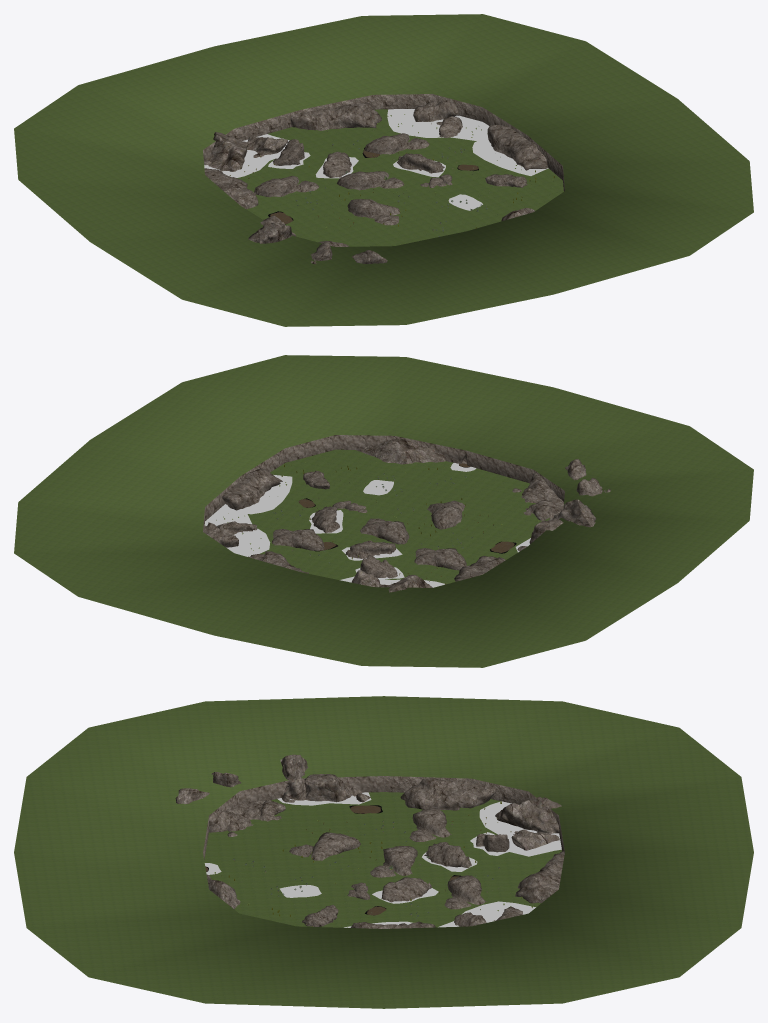
File: map5 c hang.fbx
3 views of the same model, one above another, from view 1: azimuth 30°, elevation 25°; view 2: azimuth 150°, elevation 25°; view 3: azimuth 270°, elevation 25° (orthographic). The views are drawn at different scales.
Visible parts, largest first — view 1: Plane.057, Plane.058, MoutainsRocks02_A_LOD0.014, RockMoutain03_LOD0.004, Plane.066, MoutainsRocks02_A_LOD0.010, MoutainsRocks02_LOD0.004, MoutainsRocks02_A_LOD0.012, MountainRocks01_C.009, MountainRocks01_C.010, MountainRocks01_C.013, MountainRocks01_C.014 (+7 smaller); view 2: Plane.057, Plane.058, MountainRocks01_LOD0.004, MountainRocks01_D.004, MoutainsRocks02_A_LOD0.010, Plane.066, MountainRocks01_B_LOD0.004, Plane.064, MountainRocks01_C.014, MountainRocks01_C.013, MountainRocks01_C.009, MoutainsRocks02_LOD0.004 (+6 smaller); view 3: Plane.057, Plane.058, MountainRocks01_LOD0.004, MoutainsRocks02_A_LOD0.012, MountainRocks01_B_LOD0.004, RockMoutain03_LOD0.004, MoutainsRocks02_A_LOD0.014, Plane.065, MountainRocks01_C.010, MountainRocks01_C.009, MountainRocks01_C.014, MountainRocks01_C.013 (+6 smaller).
Part boxes in pixels (x1,y1,x2,y2): Plane.057: [14, 14, 753, 326]; Plane.058: [237, 109, 563, 246]; MoutainsRocks02_A_LOD0.014: [290, 102, 381, 131]; RockMoutain03_LOD0.004: [204, 132, 287, 171]; Plane.066: [387, 109, 489, 141]; MoutainsRocks02_A_LOD0.010: [487, 124, 547, 170]; MoutainsRocks02_LOD0.004: [413, 100, 462, 137]; MoutainsRocks02_A_LOD0.012: [204, 168, 258, 209]; MountainRocks01_C.009: [337, 171, 404, 190]; MountainRocks01_C.010: [347, 199, 400, 225]; MountainRocks01_C.013: [254, 176, 319, 197]; MountainRocks01_C.014: [364, 133, 429, 154]; Plane.057: [14, 355, 753, 667]; Plane.058: [247, 449, 550, 584]; MountainRocks01_LOD0.004: [512, 459, 610, 520]; MountainRocks01_D.004: [356, 438, 445, 464]; MoutainsRocks02_A_LOD0.010: [222, 468, 282, 510]; Plane.066: [204, 506, 270, 556]; MountainRocks01_B_LOD0.004: [517, 499, 596, 551]; Plane.064: [222, 475, 292, 514]; MountainRocks01_C.014: [272, 529, 324, 550]; MountainRocks01_C.013: [414, 548, 466, 570]; MountainRocks01_C.009: [360, 518, 409, 544]; MoutainsRocks02_LOD0.004: [203, 521, 257, 547]; Plane.057: [14, 696, 753, 1008]; Plane.058: [204, 792, 561, 927]; MountainRocks01_LOD0.004: [175, 772, 285, 836]; MoutainsRocks02_A_LOD0.012: [400, 778, 496, 810]; MountainRocks01_B_LOD0.004: [280, 754, 370, 802]; RockMoutain03_LOD0.004: [495, 796, 561, 850]; MoutainsRocks02_A_LOD0.014: [515, 851, 564, 903]; Plane.065: [479, 801, 561, 856]; MountainRocks01_C.010: [289, 832, 360, 860]; MountainRocks01_C.009: [370, 846, 420, 877]; MountainRocks01_C.014: [444, 875, 487, 909]; MountainRocks01_C.013: [409, 808, 452, 841].
Bounding box in the file's own units: 31399 × 2303 × 31399.
